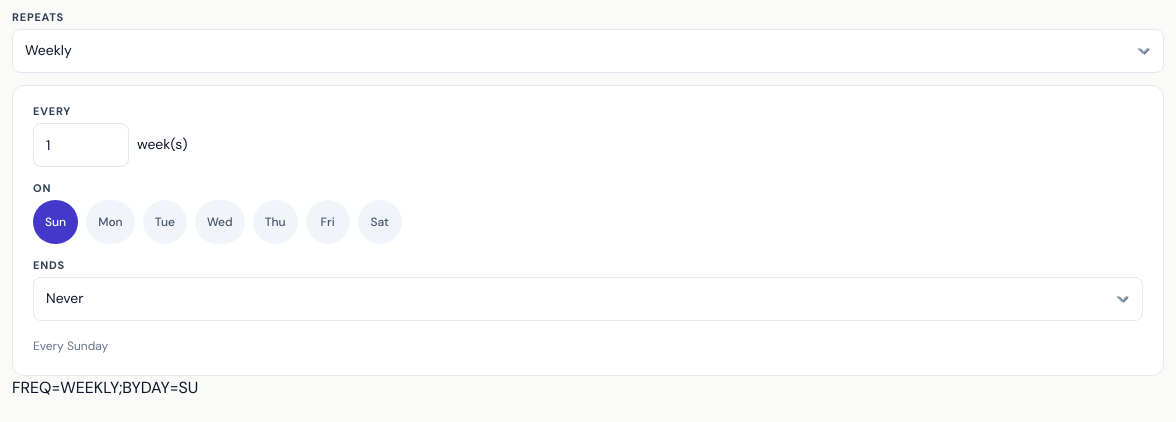
it: RecurrenceControl › reports a problem and says nothing in words while the rule is incomplete
The image size is (1176, 422).
Clear the number field labelled "Every" at (81, 145), box [33,123,129,167]
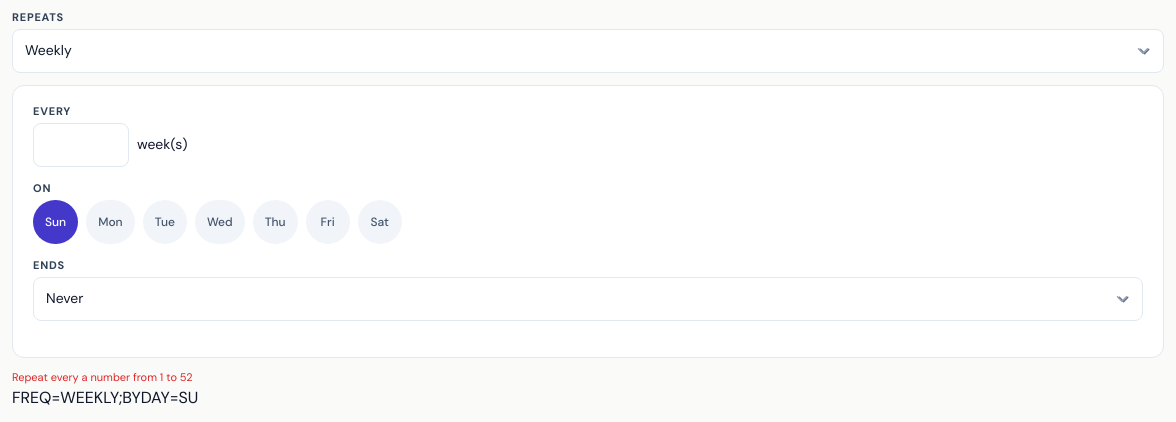
Now the message shows "1 to 52", box [12,370,193,384]
